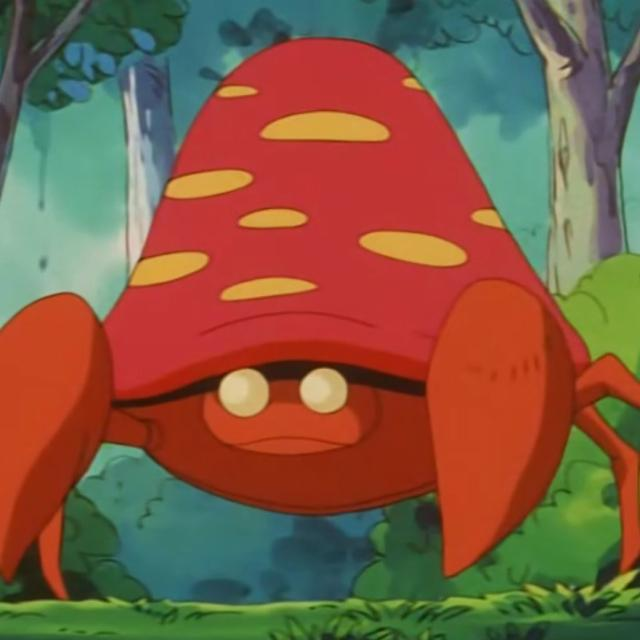Parasect: (0, 44, 571, 586)
